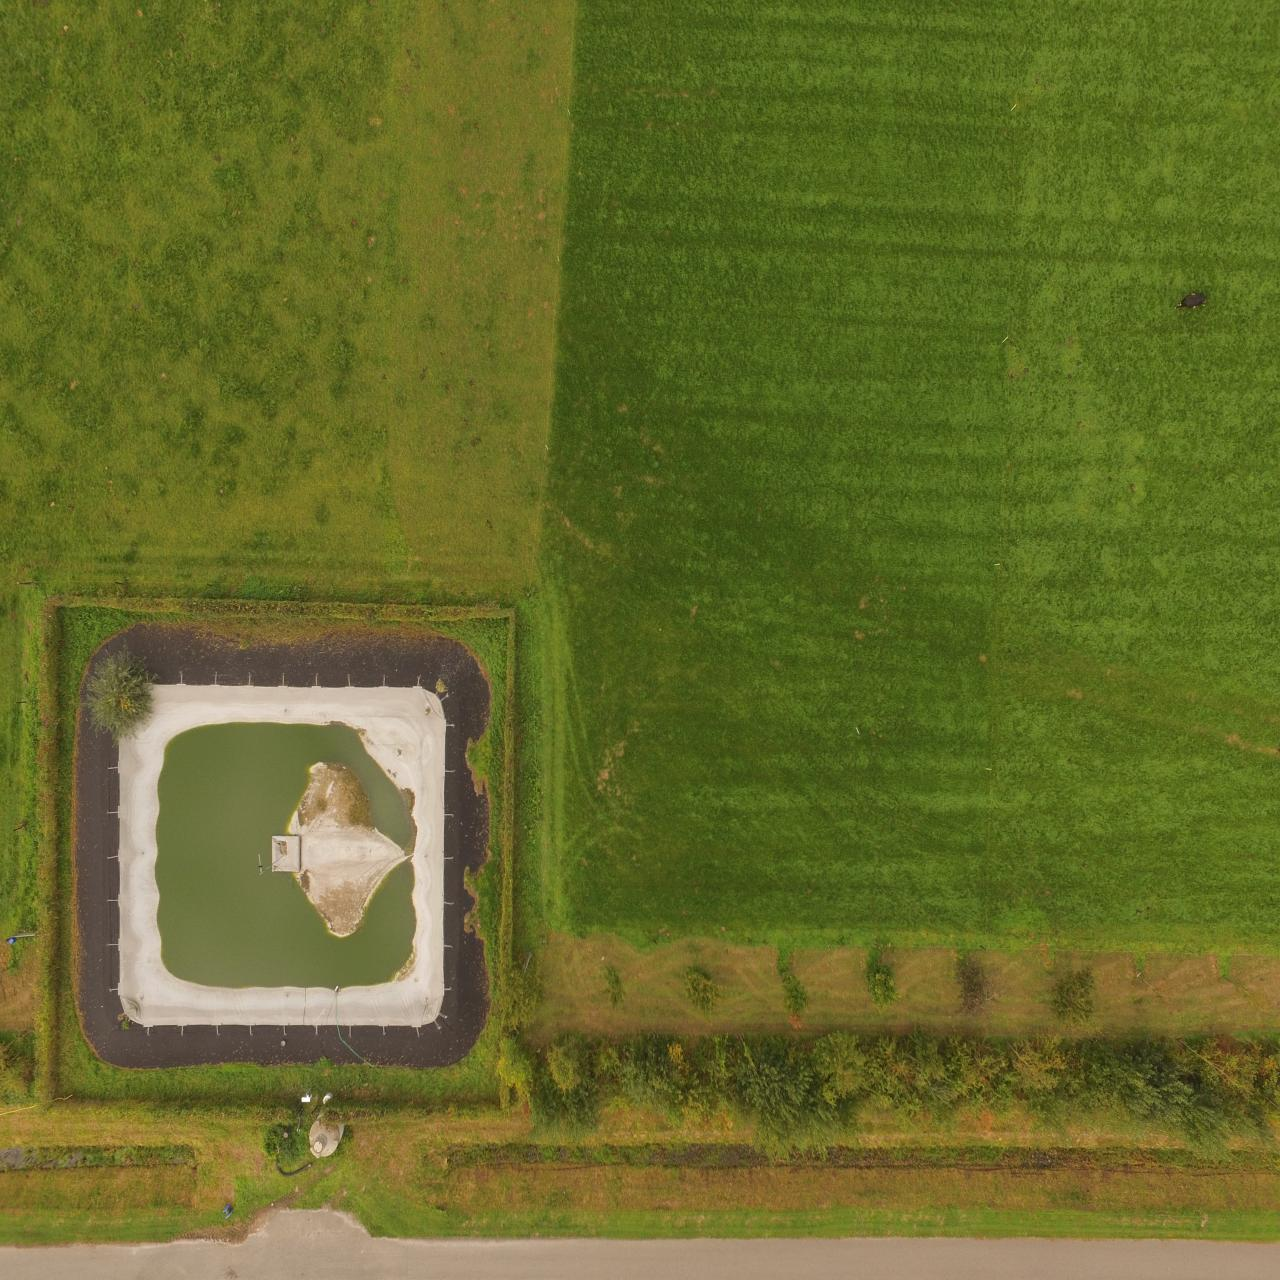cow: (1175, 293, 1211, 309)
